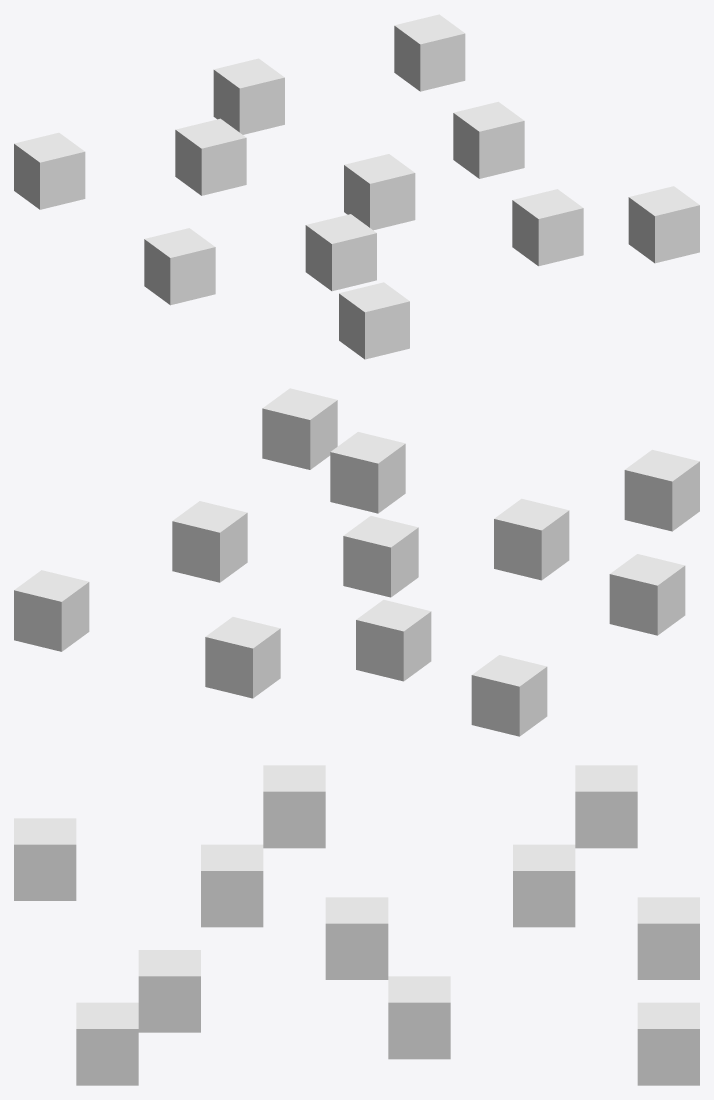
File: LunaFlower3.obj
The picture shows the model from 3 angles, top to bottom: view 1: azimuth 30°, elevation 25°; view 2: azimuth 150°, elevation 25°; view 3: azimuth 270°, elevation 25°; orthographic projection. The views are drawn at different scales.
Visible parts, largest first — view 1: LunaFlower3; view 2: LunaFlower3; view 3: LunaFlower3.
Boxes of the visible parts, left/top/right/bottom form: LunaFlower3: left=14, top=14, right=699, bottom=359; LunaFlower3: left=14, top=388, right=699, bottom=736; LunaFlower3: left=14, top=765, right=699, bottom=1085.
Bounding box in the file's own units: 10 × 1 × 11.
1 material, 1 textured.
